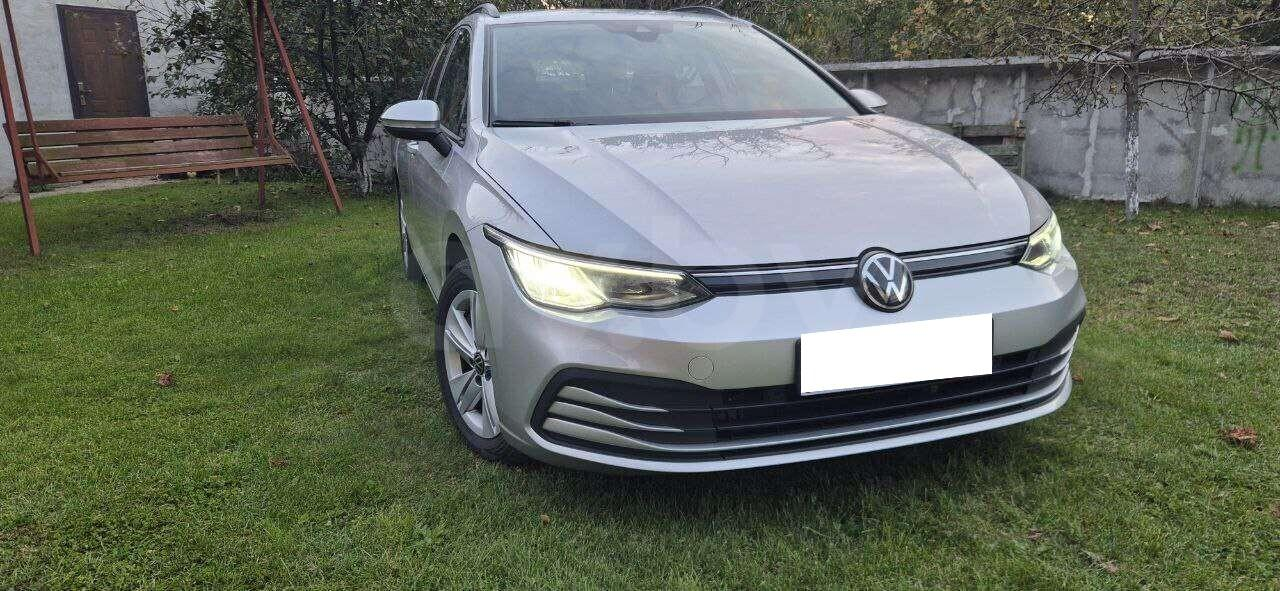Golf_2019: (387, 4, 1089, 469)
